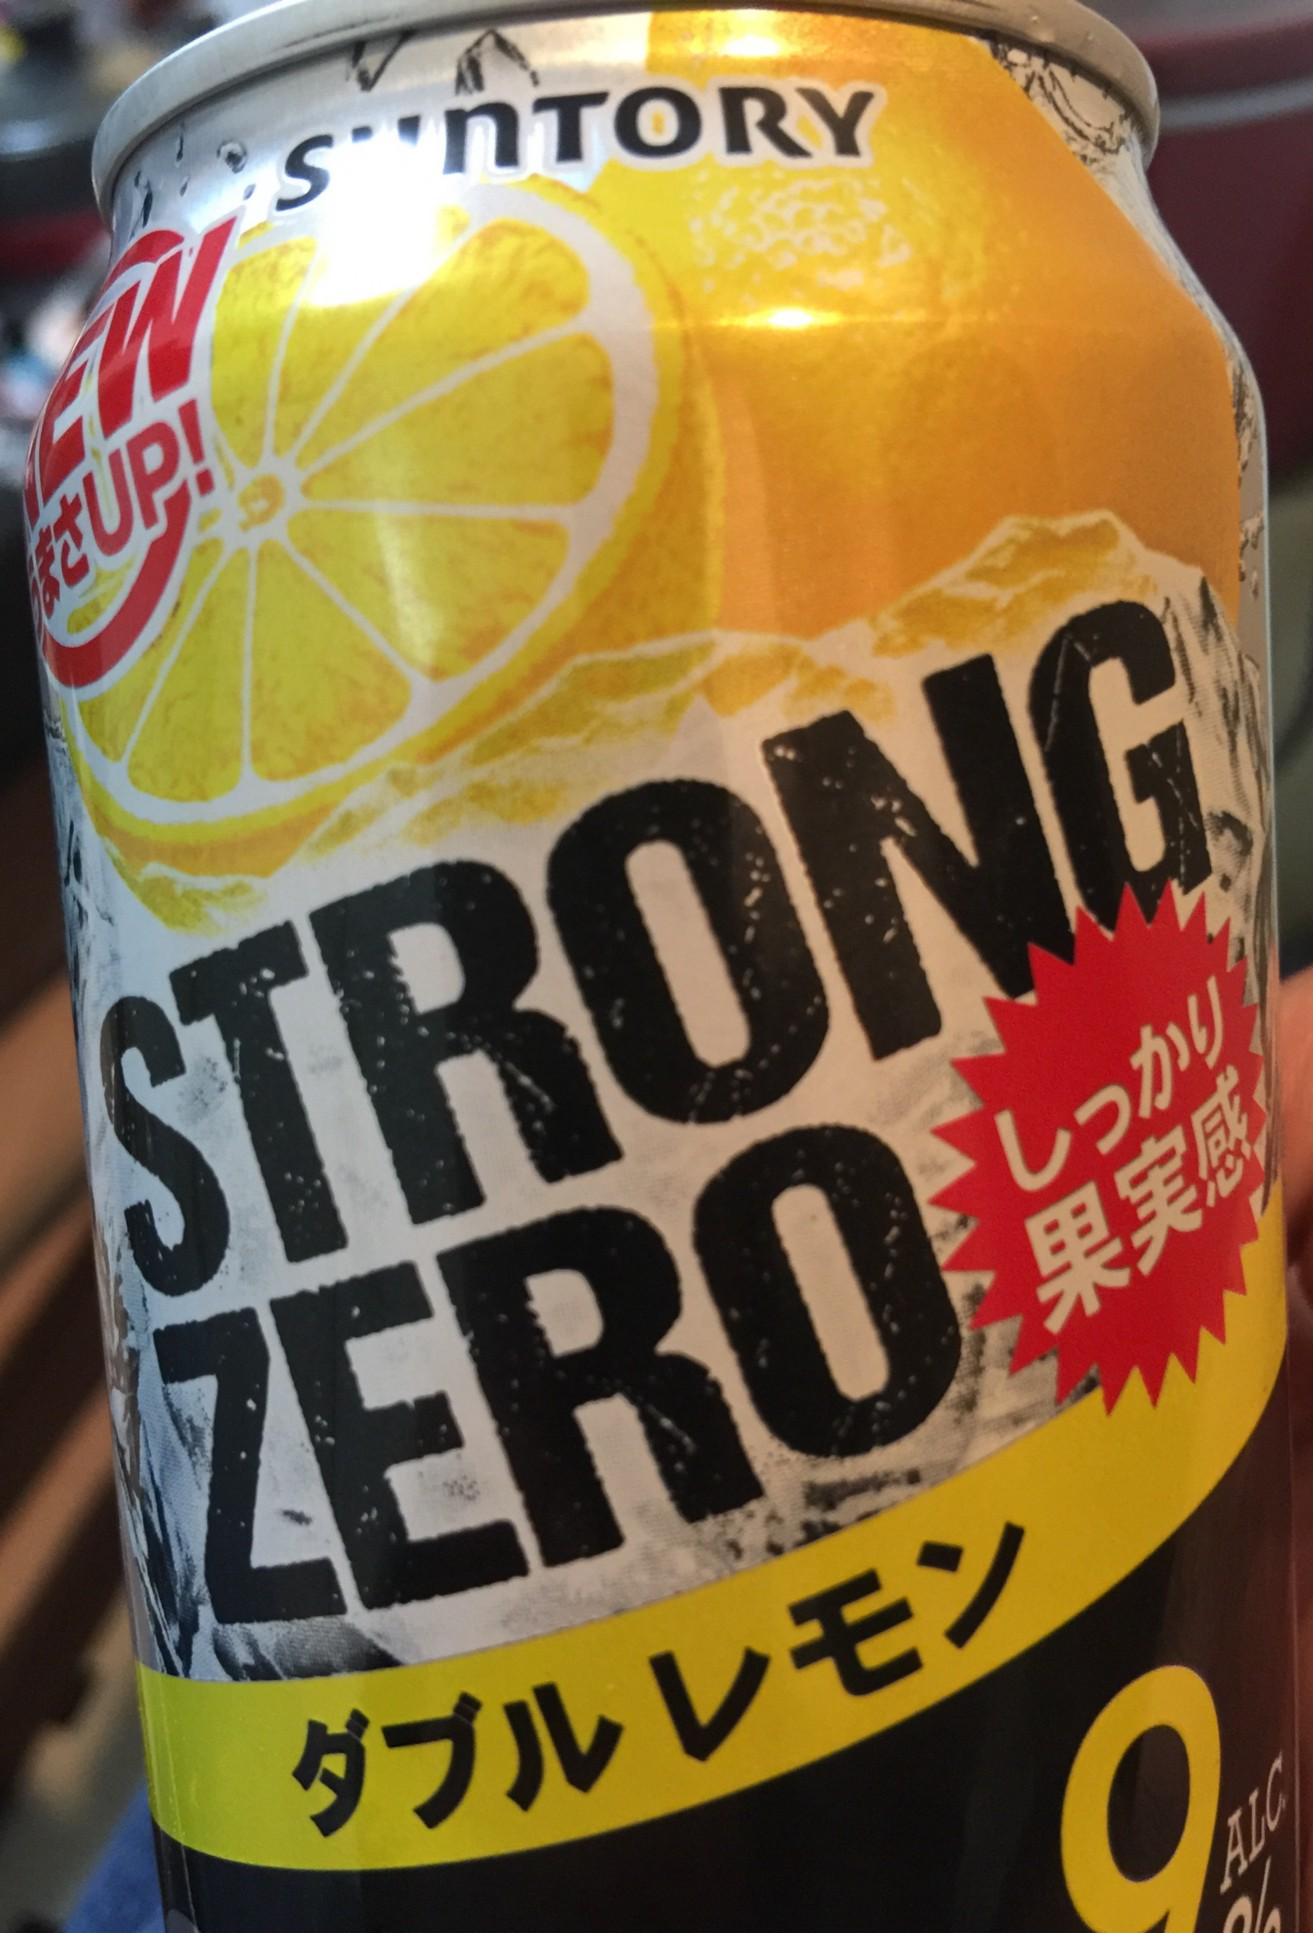Can: (70, 31, 1313, 1910)
